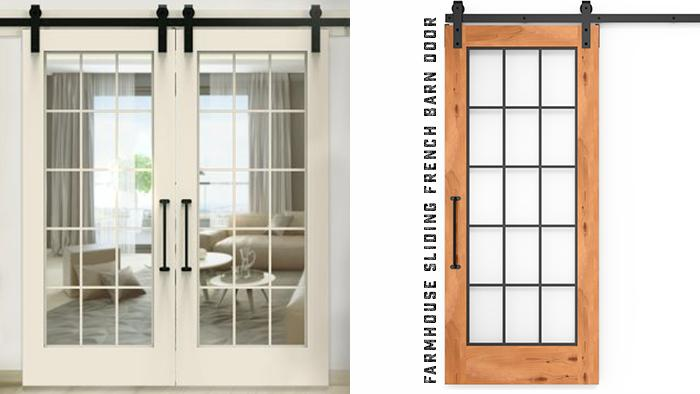door: (444, 17, 599, 386), (174, 26, 329, 381), (22, 31, 176, 387)
sofa: (201, 210, 307, 274)
table: (144, 247, 235, 312), (59, 237, 127, 301), (212, 269, 276, 313)
